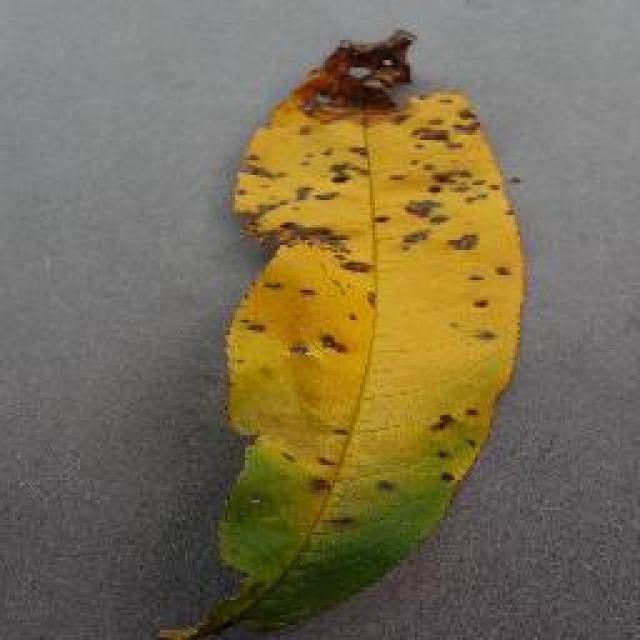Peach_Bacterial_Spot: (257, 17, 508, 433)
